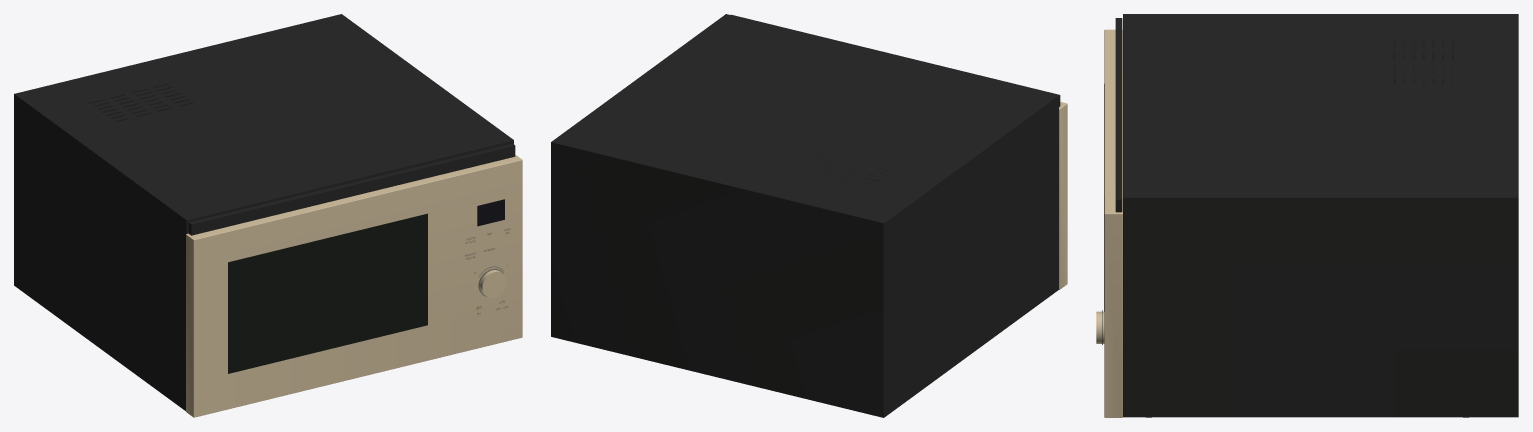
File: MLJ39-c2f00c.glb
The picture shows the model from 3 angles, left to right: view 1: azimuth 30°, elevation 25°; view 2: azimuth 150°, elevation 25°; view 3: azimuth 270°, elevation 25°; orthographic projection. The views are drawn at different scales.
Visible parts, largest first — view 1: BodyShell, ControlKnob, TopVent_0_0, ControlDisplay; view 2: BodyShell, ControlKnob; view 3: BodyShell, ControlKnob, TopVent_0_0.
Boxes of the visible parts, <box> form: BodyShell: <box>14,14,515,410</box>; ControlKnob: <box>186,155,522,417</box>; TopVent_0_0: <box>89,84,427,373</box>; ControlDisplay: <box>477,199,504,226</box>; BodyShell: <box>551,14,1060,417</box>; ControlKnob: <box>1059,102,1067,289</box>; BodyShell: <box>1115,14,1518,417</box>; ControlKnob: <box>1096,29,1122,417</box>; TopVent_0_0: <box>1104,40,1453,311</box>.
Bounding box in the file's own units: 0.54 × 0.325 × 0.523.
Materials: 8 (2 with a texture image).
